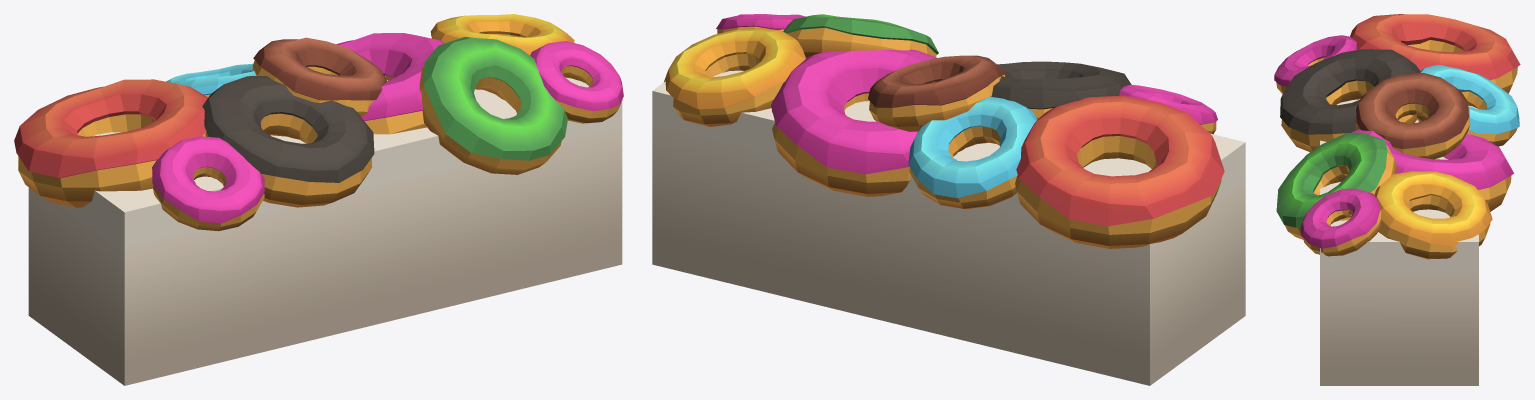
File: DonutModule.fbx
The picture shows the model from 3 angles, left to right: view 1: azimuth 30°, elevation 25°; view 2: azimuth 150°, elevation 25°; view 3: azimuth 270°, elevation 25°; orthographic projection. The views are drawn at different scales.
Parts seen in each view (by area): view 1: ModuleSlot, Donut1, Donut, Donut6, Donut8, Donut7, Donut3, Donut4, Donut5, Donut2; view 2: ModuleSlot, Donut1, Donut3, Donut5, Donut2, Donut7, Donut, Donut6, Donut8, Donut4; view 3: ModuleSlot, Donut, Donut5, Donut1, Donut7, Donut6, Donut4, Donut3, Donut2, Donut8.
Boxes of the visible parts, left/top/right/bottom form: ModuleSlot: left=28, top=77, right=622, bottom=385; Donut1: left=14, top=79, right=207, bottom=207; Donut: left=202, top=76, right=374, bottom=207; Donut6: left=419, top=37, right=567, bottom=174; Donut8: left=152, top=136, right=264, bottom=231; Donut7: left=252, top=37, right=386, bottom=116; Donut3: left=336, top=33, right=444, bottom=134; Donut4: left=530, top=41, right=623, bottom=123; Donut5: left=430, top=14, right=574, bottom=55; Donut2: left=166, top=63, right=256, bottom=97; ModuleSlot: left=652, top=70, right=1245, bottom=385; Donut1: left=1015, top=95, right=1224, bottom=248; Donut3: left=771, top=49, right=936, bottom=196; Donut5: left=664, top=28, right=805, bottom=126; Donut2: left=908, top=96, right=1036, bottom=208; Donut7: left=868, top=55, right=1006, bottom=131; Donut: left=991, top=61, right=1131, bottom=119; Donut6: left=783, top=14, right=938, bottom=57; Donut8: left=1119, top=84, right=1217, bottom=134; Donut4: left=716, top=14, right=805, bottom=33; ModuleSlot: left=1320, top=99, right=1478, bottom=385; Donut: left=1280, top=49, right=1420, bottom=151; Donut5: left=1374, top=171, right=1492, bottom=259; Donut1: left=1350, top=14, right=1520, bottom=93; Donut7: left=1356, top=73, right=1470, bottom=159; Donut6: left=1276, top=132, right=1396, bottom=239; Donut4: left=1300, top=188, right=1381, bottom=256; Donut3: left=1352, top=123, right=1514, bottom=211; Donut2: left=1416, top=65, right=1519, bottom=146; Donut8: left=1274, top=35, right=1356, bottom=93.
Bounding box in the file's own units: 650 × 270 × 310.
